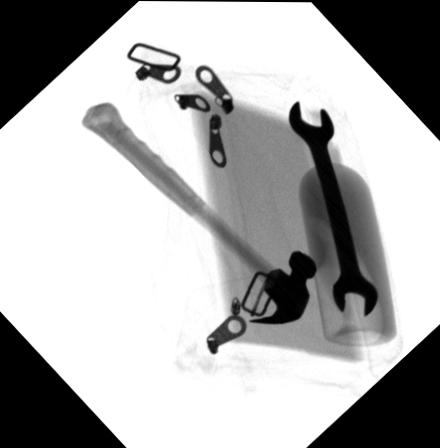Hammer: (80, 104, 318, 327)
Wrench: (285, 97, 378, 320)
